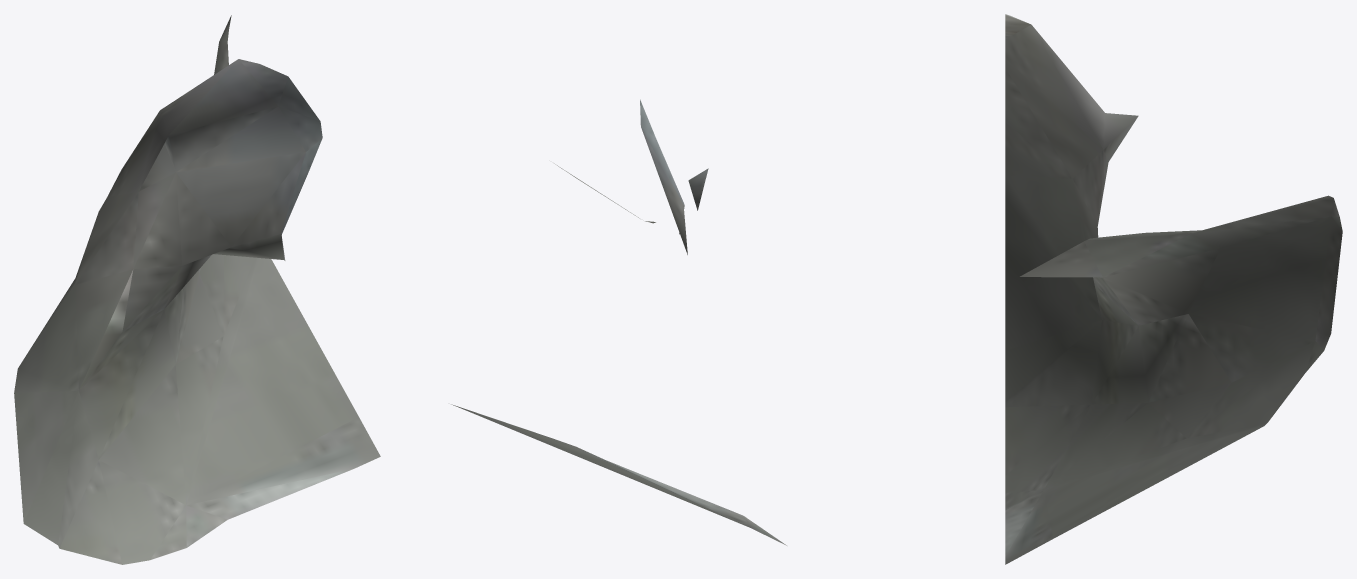
3 views of the same model, side by side, from view 1: azimuth 30°, elevation 25°; view 2: azimuth 150°, elevation 25°; view 3: azimuth 270°, elevation 25° (orthographic). The views are drawn at different scales.
Size of the model in its own units: 0.4678 by 0.5829 by 0.3384.
Materials: 1 (1 with a texture image).
